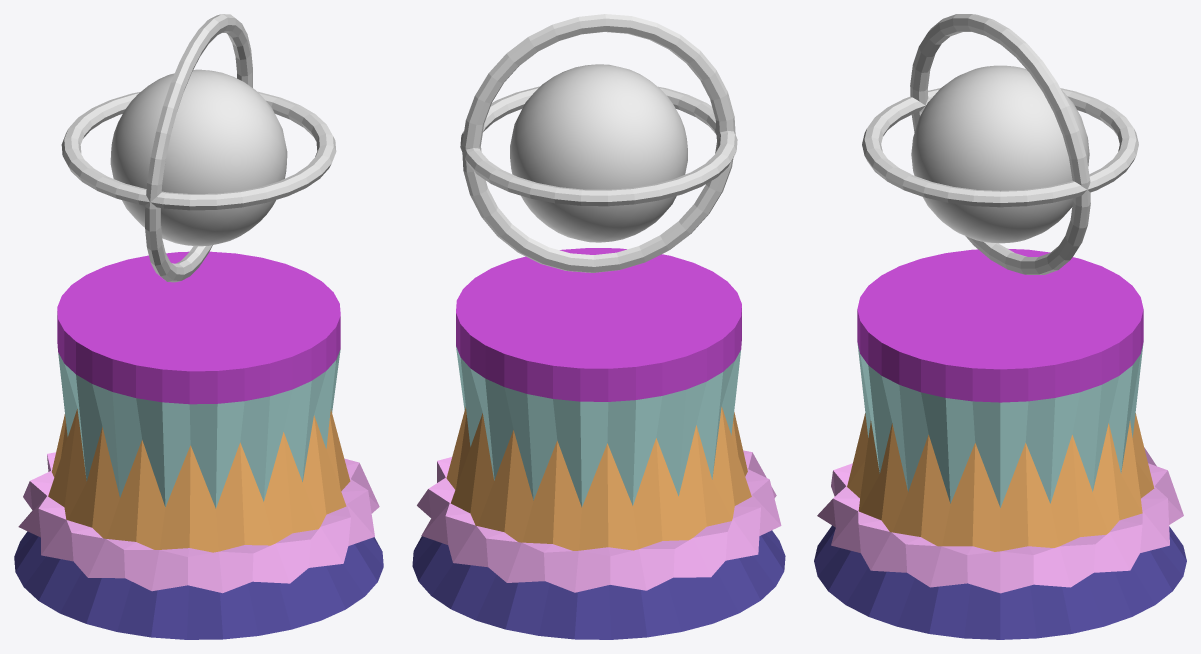
The model's file is towerBase.fbx.
3 renders of one model, left to right at view 1: azimuth 30°, elevation 25°; view 2: azimuth 150°, elevation 25°; view 3: azimuth 270°, elevation 25°, orthographic.
Visible parts, largest first — view 1: Cylinder, Sphere, Circle.001, Circle.002; view 2: Cylinder, Sphere, Circle.002, Circle.001; view 3: Cylinder, Sphere, Circle.002, Circle.001.
Part boxes in pixels (box(x1,y1,x2,y2)): Cylinder: box(14, 251, 383, 639); Sphere: box(110, 69, 287, 246); Circle.001: box(61, 91, 336, 210); Circle.002: box(145, 14, 252, 282); Cylinder: box(412, 248, 785, 639); Sphere: box(510, 64, 687, 242); Circle.002: box(462, 14, 735, 272); Circle.001: box(460, 86, 737, 206); Cylinder: box(814, 249, 1186, 639); Sphere: box(911, 65, 1089, 243); Circle.002: box(910, 14, 1090, 274); Circle.001: box(862, 88, 1138, 207).
Size of the model in its own units: 261 by 261 by 418.
